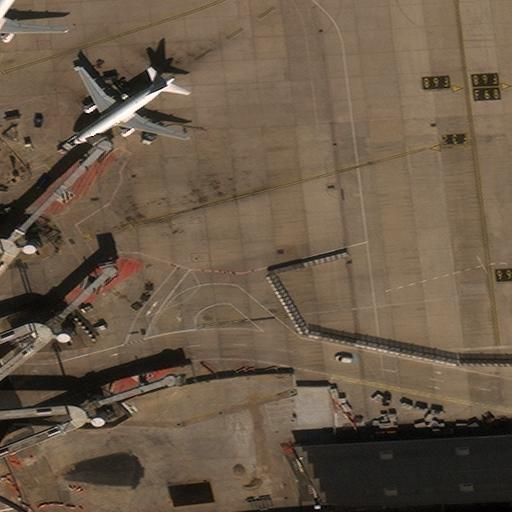Medium Civil Transport: (74, 69, 185, 143), (0, 0, 67, 52)
